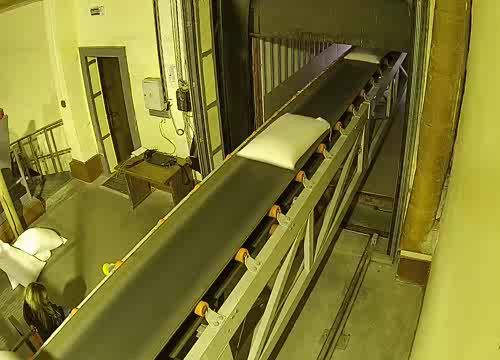bag: (231, 110, 335, 175), (340, 41, 393, 68), (0, 346, 29, 360)
